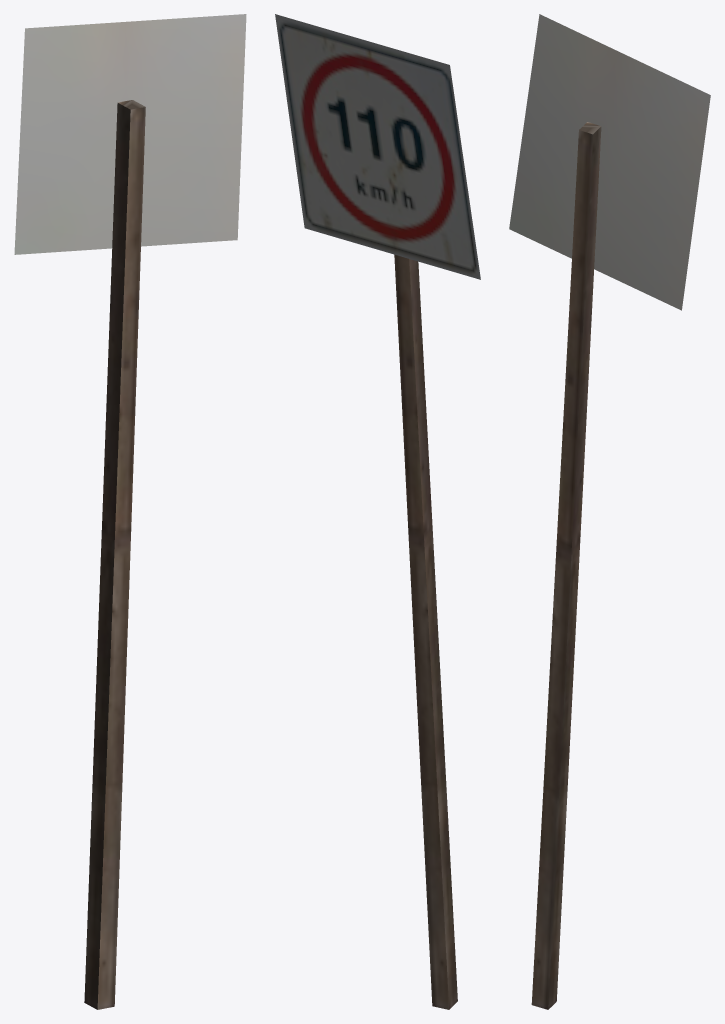
The model's file is sign3.fbx.
3 renders of one model, left to right at view 1: azimuth 30°, elevation 25°; view 2: azimuth 150°, elevation 25°; view 3: azimuth 330°, elevation 25°, orthographic. The views are drawn at different scales.
Parts seen in each view (by area): view 1: sign03; view 2: sign03; view 3: sign03.
Boxes of the visible parts, bbox=[...] form: sign03: bbox=[14, 14, 246, 1009]; sign03: bbox=[275, 14, 480, 1009]; sign03: bbox=[509, 14, 710, 1009].
Size of the model in its own units: 65.88 by 278 by 21.23.
1 material, 1 textured.
